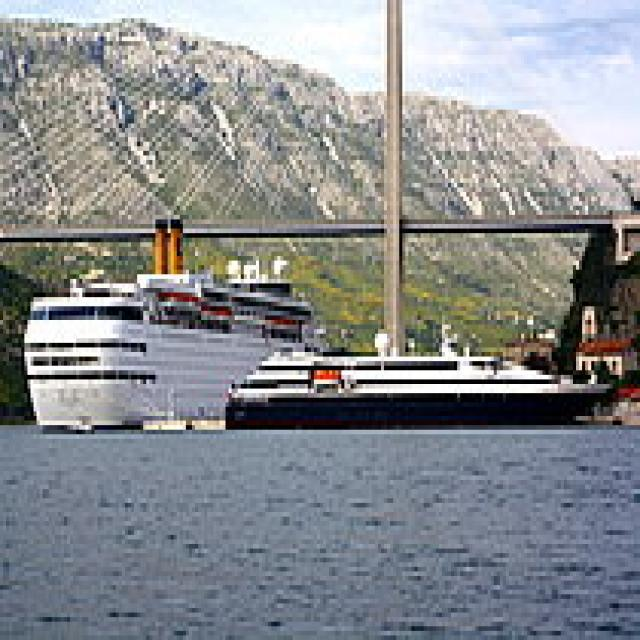Ship: (16, 202, 327, 431)
